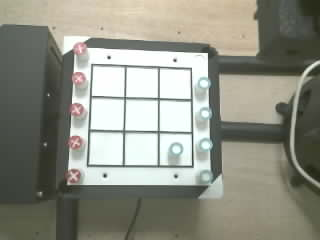blue circle: (169, 142, 183, 155), (198, 138, 212, 151), (200, 107, 213, 120), (197, 77, 210, 89), (200, 170, 212, 183)
board: (67, 48, 213, 185)
cells: (89, 132, 122, 165), (125, 133, 157, 165), (90, 98, 123, 129), (160, 100, 191, 131), (125, 100, 157, 130), (92, 66, 124, 96), (126, 67, 157, 97), (160, 69, 190, 98), (168, 142, 183, 157)
grid: (87, 64, 193, 167)
red cross: (65, 169, 81, 184), (68, 136, 83, 149), (69, 103, 84, 116), (72, 72, 85, 84), (73, 42, 86, 54)
